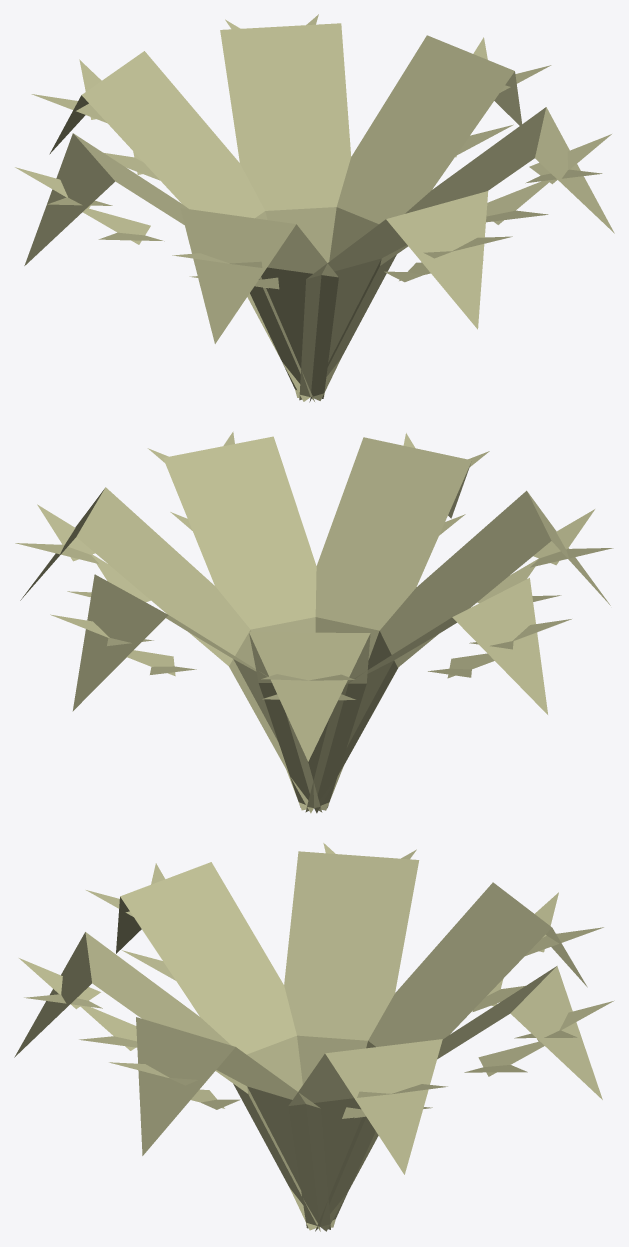
The model's file is crown_tuft.glb.
3 views of the same model, one above another, from view 1: azimuth 30°, elevation 25°; view 2: azimuth 150°, elevation 25°; view 3: azimuth 270°, elevation 25° (orthographic).
Visible parts, largest first — view 1: crown_tuft; view 2: crown_tuft; view 3: crown_tuft.
Boxes of the visible parts, x1=… form: crown_tuft: x1=15, y1=14, x2=614, y2=402; crown_tuft: x1=15, y1=431, x2=613, y2=813; crown_tuft: x1=14, y1=843, x2=614, y2=1231.
Bounding box in the file's own units: 0.8877 × 0.445 × 0.8825.
